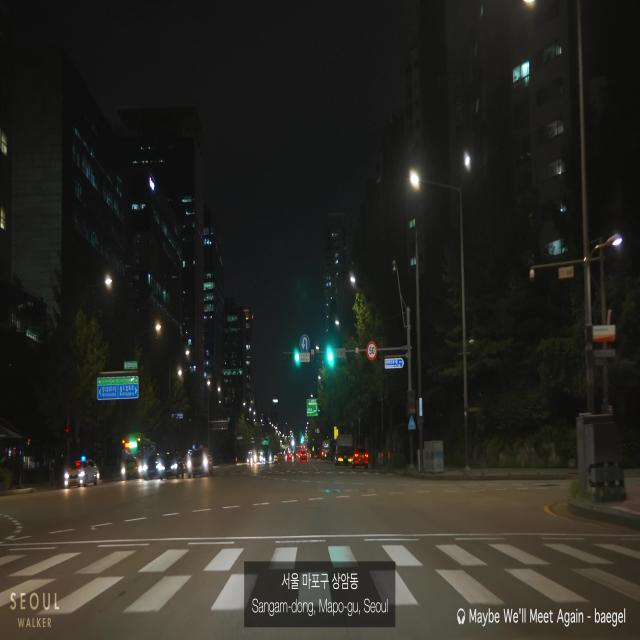Green Light: (294, 353, 299, 362), (328, 352, 333, 361)
